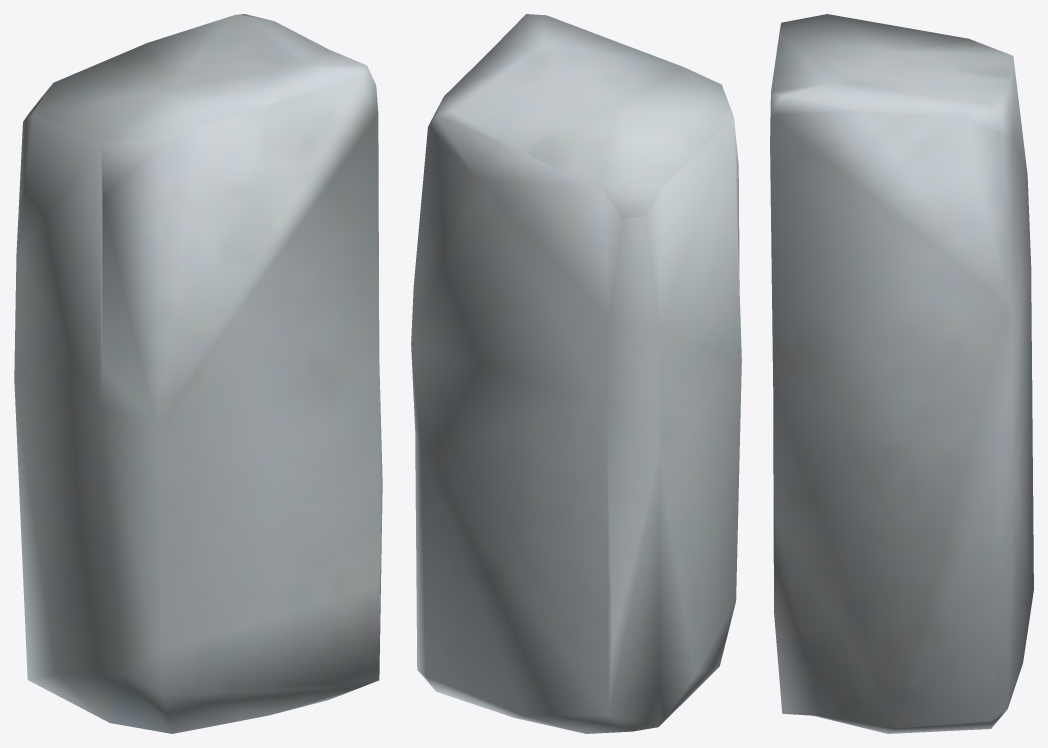
The model's file is P_RockCubic12.obj.
3 renders of one model, left to right at view 1: azimuth 30°, elevation 25°; view 2: azimuth 150°, elevation 25°; view 3: azimuth 270°, elevation 25°, orthographic. The views are drawn at different scales.
Bounding box in the file's own units: 2.57 × 5.81 × 2.19.
